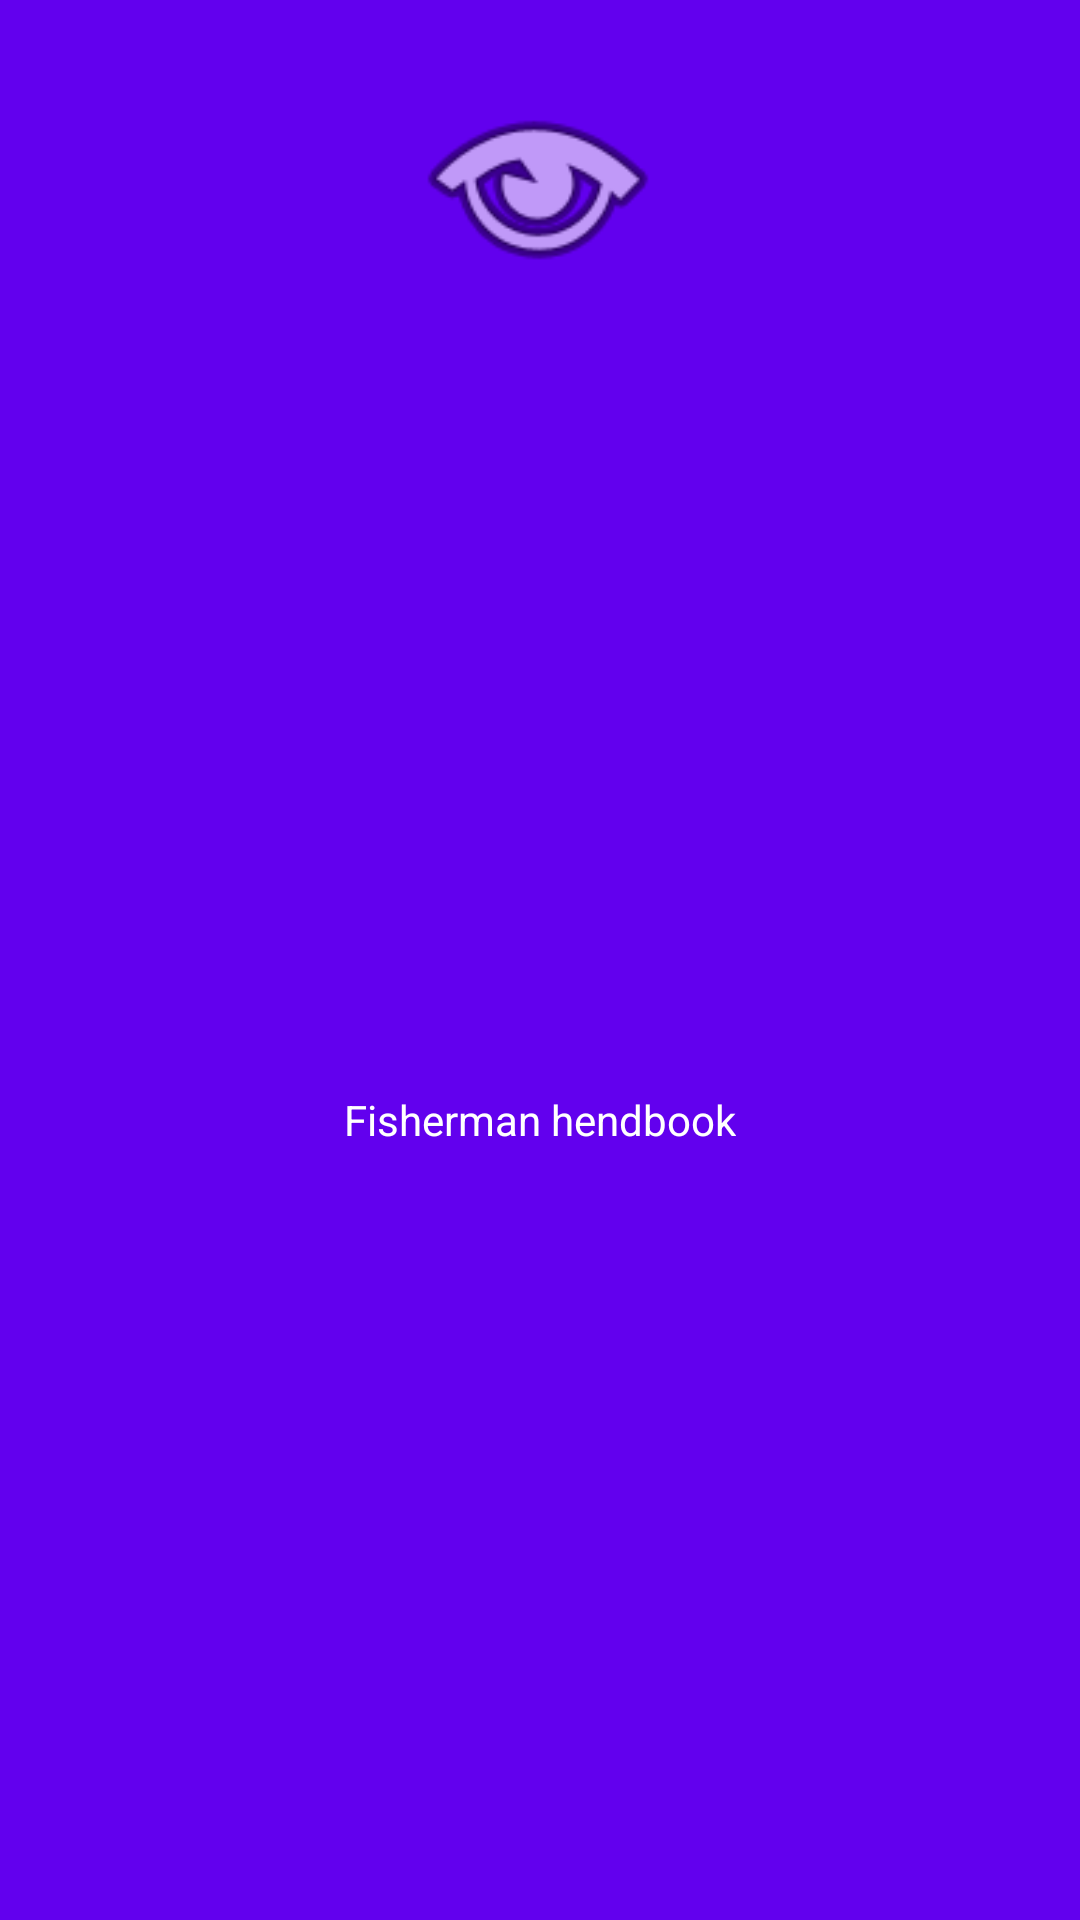

Named icons in this screenshot (1080*1920) and their centers, (x,y):
view: (538,190)
